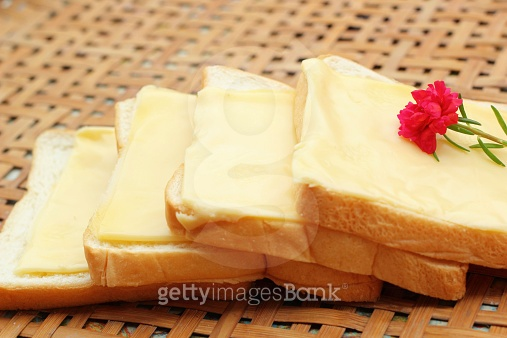slice of bread: (12, 48, 507, 314)
